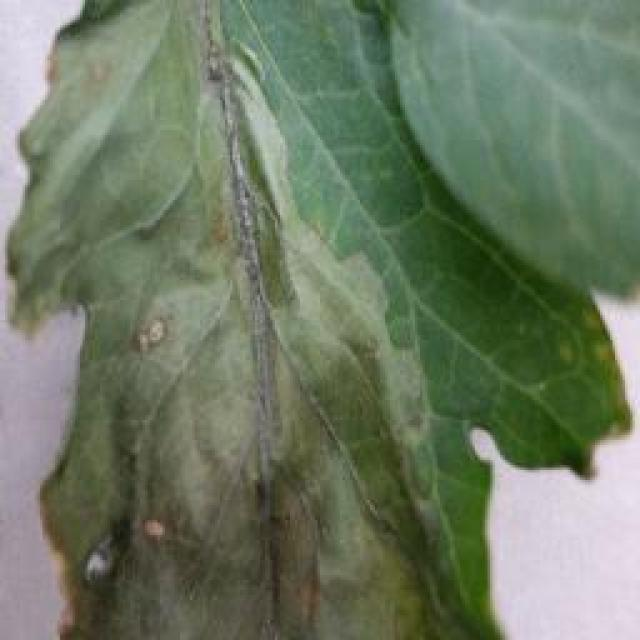Tomato Late Blight: (53, 80, 392, 610)
